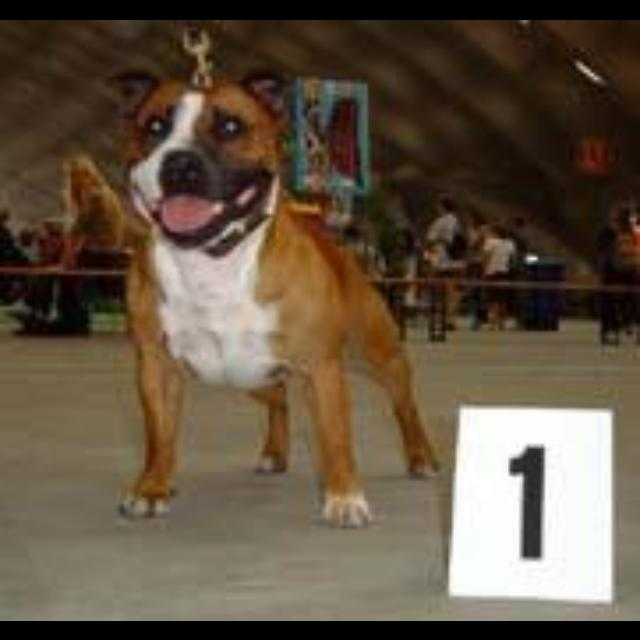staffford: (107, 63, 439, 529)
